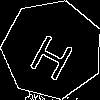H: (27, 25, 81, 82)
